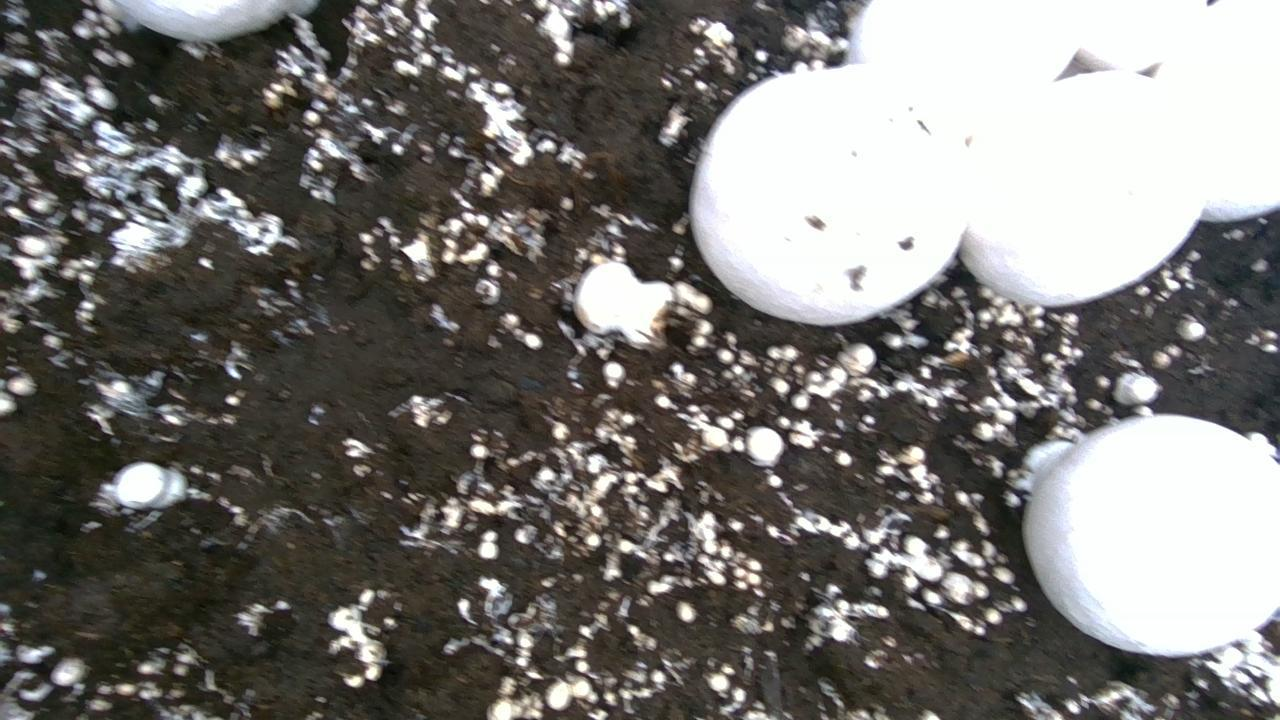WB: (690, 65, 970, 325), (1023, 415, 1279, 656), (946, 70, 1208, 304), (851, 0, 1081, 118), (1159, 0, 1280, 220), (1081, 0, 1210, 70), (116, 0, 317, 42), (574, 261, 672, 346), (113, 462, 186, 509)
